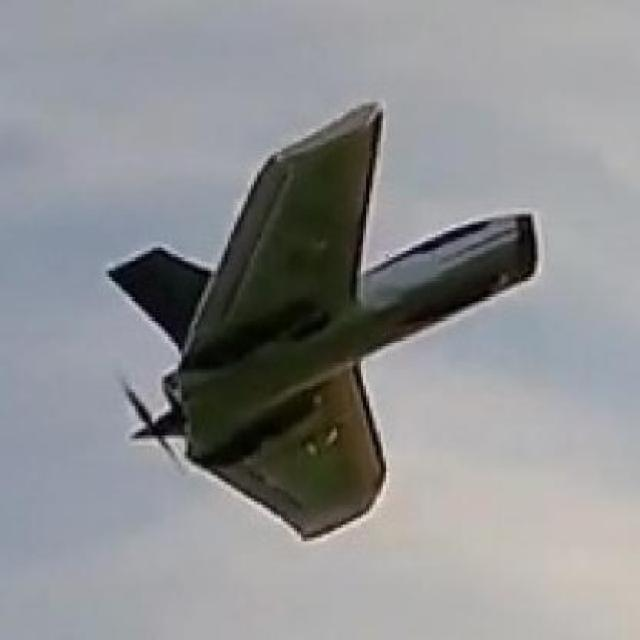iha: (96, 82, 545, 559)
